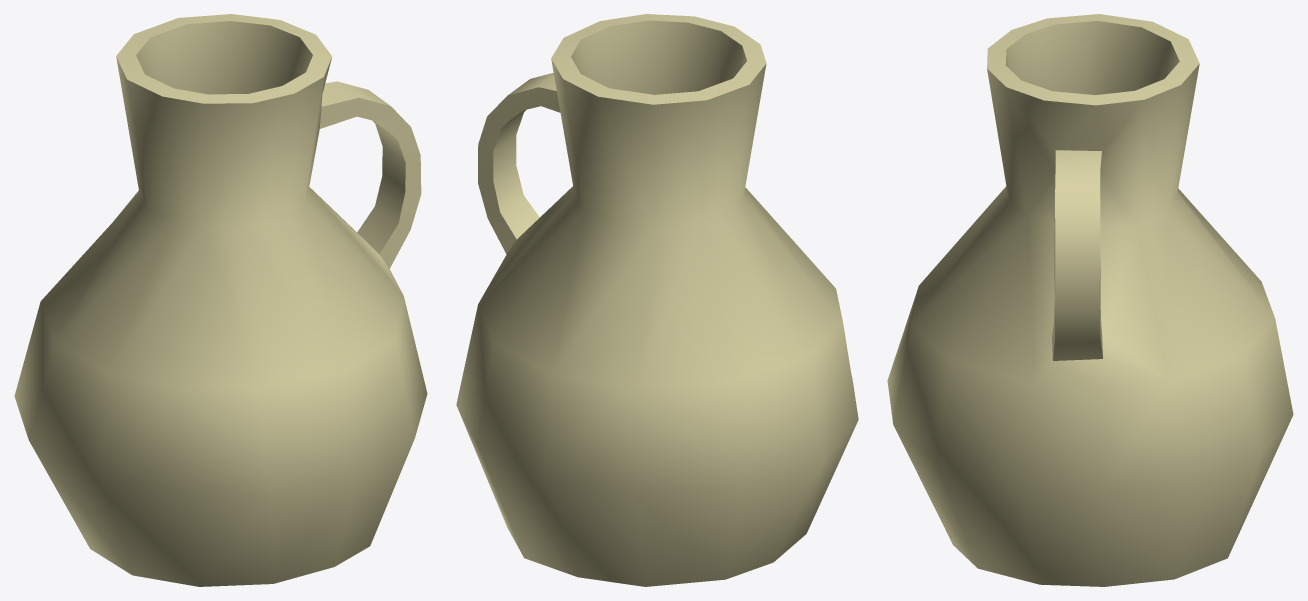
The model's file is SM_Lekif.fbx.
3 renders of one model, left to right at view 1: azimuth 30°, elevation 25°; view 2: azimuth 150°, elevation 25°; view 3: azimuth 270°, elevation 25°, orthographic.
Visible parts, largest first — view 1: SM_Lekif; view 2: SM_Lekif; view 3: SM_Lekif.
Part boxes in pixels (x1,y1,x2,y2): SM_Lekif: [14, 14, 427, 586]; SM_Lekif: [456, 14, 858, 586]; SM_Lekif: [887, 14, 1293, 586].
Size of the model in its own units: 0.2673 by 0.3347 by 0.2633.
